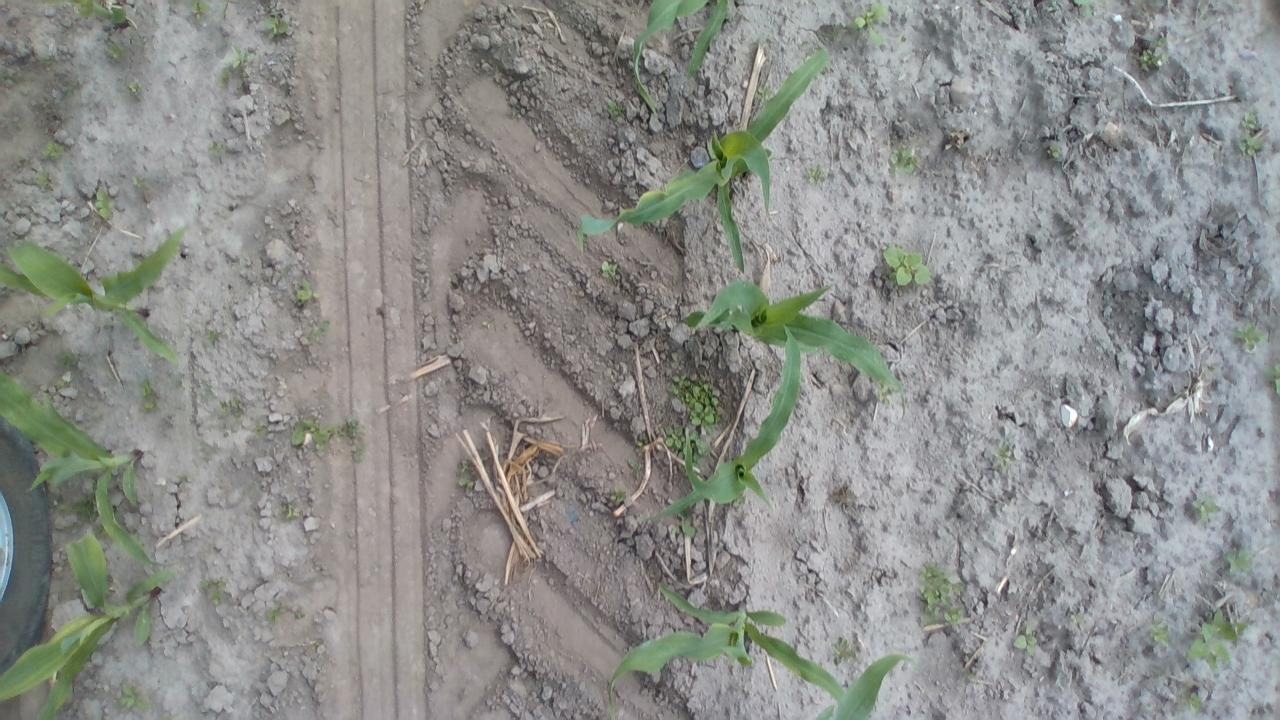Maize: (573, 46, 834, 270), (637, 326, 804, 530), (0, 368, 168, 568), (0, 527, 172, 720), (603, 583, 845, 720), (679, 282, 914, 422), (0, 226, 181, 364), (743, 654, 915, 720), (633, 0, 725, 119), (58, 0, 132, 30)
Weeds: (1188, 608, 1248, 670), (916, 562, 964, 626), (684, 374, 723, 434), (883, 245, 934, 286), (290, 419, 344, 452), (851, 3, 888, 45), (1231, 320, 1269, 350), (344, 413, 366, 461), (118, 682, 152, 712), (59, 496, 96, 523), (260, 12, 292, 38), (689, 430, 710, 468), (1177, 686, 1204, 714), (890, 144, 916, 173), (1014, 625, 1038, 656), (1192, 494, 1220, 520), (1149, 614, 1171, 646), (199, 578, 226, 604), (1138, 50, 1172, 70), (104, 40, 130, 66), (832, 638, 857, 665), (1226, 548, 1252, 573), (1238, 132, 1264, 156), (94, 187, 114, 218), (994, 443, 1016, 468), (231, 45, 254, 68), (40, 140, 66, 160), (1265, 362, 1280, 396), (72, 0, 95, 22), (667, 373, 689, 396), (664, 426, 686, 447), (457, 461, 474, 488), (141, 380, 155, 412), (190, 0, 210, 20), (876, 379, 892, 404), (297, 279, 314, 302), (1072, 0, 1095, 17), (806, 164, 826, 183), (755, 84, 774, 103), (678, 514, 694, 536), (603, 99, 625, 115), (280, 502, 300, 519), (34, 170, 52, 188), (600, 260, 618, 278), (59, 352, 78, 369), (208, 139, 225, 156), (216, 68, 232, 86), (0, 68, 22, 81), (610, 487, 626, 503), (1240, 112, 1256, 128), (264, 608, 279, 624), (311, 322, 328, 336), (732, 494, 746, 510), (128, 78, 142, 94), (626, 458, 642, 472), (61, 85, 76, 98), (132, 173, 144, 188), (254, 424, 267, 437), (1048, 146, 1062, 158), (1153, 37, 1169, 47), (205, 330, 218, 342), (216, 402, 227, 416), (57, 378, 69, 388), (232, 412, 242, 424), (634, 435, 644, 447), (1048, 0, 1058, 12), (1072, 612, 1083, 622), (231, 400, 244, 408), (294, 610, 304, 620), (672, 527, 678, 535), (1098, 0, 1108, 3)
